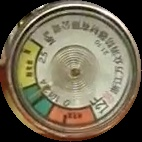green: (23, 85, 54, 119)
needle: (26, 81, 56, 102)
red: (46, 104, 97, 128)
yellow: (15, 38, 42, 88)
